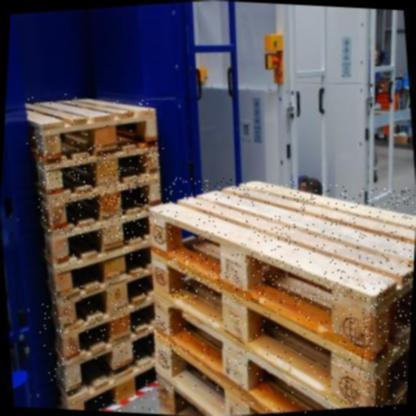pallet: (143, 172, 416, 416), (45, 174, 159, 238), (36, 113, 163, 170), (58, 240, 143, 304)
